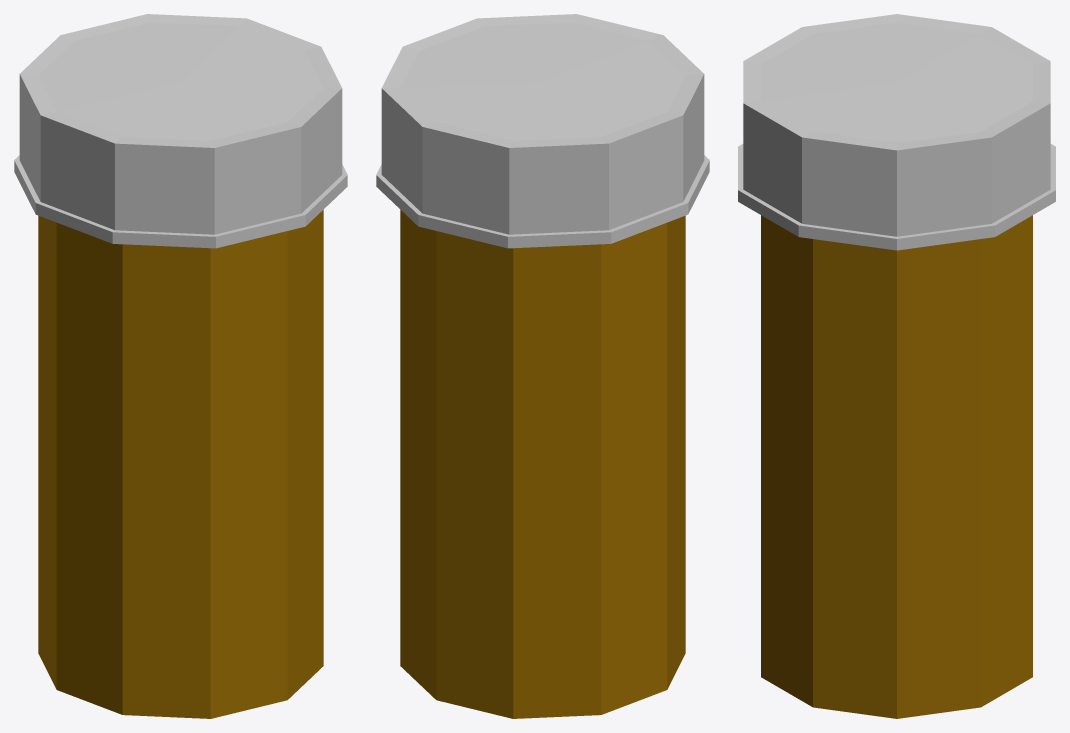
Rendered from vialscolor.fbx.
3 views of the same model, side by side, from view 1: azimuth 30°, elevation 25°; view 2: azimuth 150°, elevation 25°; view 3: azimuth 270°, elevation 25° (orthographic).
Parts seen in each view (by area): view 1: pCylinder6; view 2: pCylinder6; view 3: pCylinder6.
Boxes of the visible parts, box(x1,y1,x2,y2) form: pCylinder6: box(14, 14, 347, 718); pCylinder6: box(376, 14, 709, 718); pCylinder6: box(738, 14, 1055, 718).
Size of the model in its own units: 2.34 by 4.45 by 2.22.
